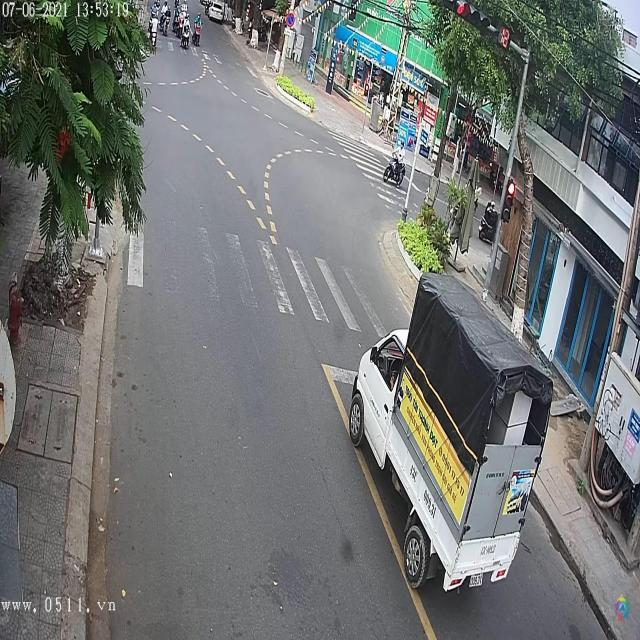motorcycle: (384, 156, 406, 185), (182, 23, 192, 48)
truck: (347, 270, 557, 608)
